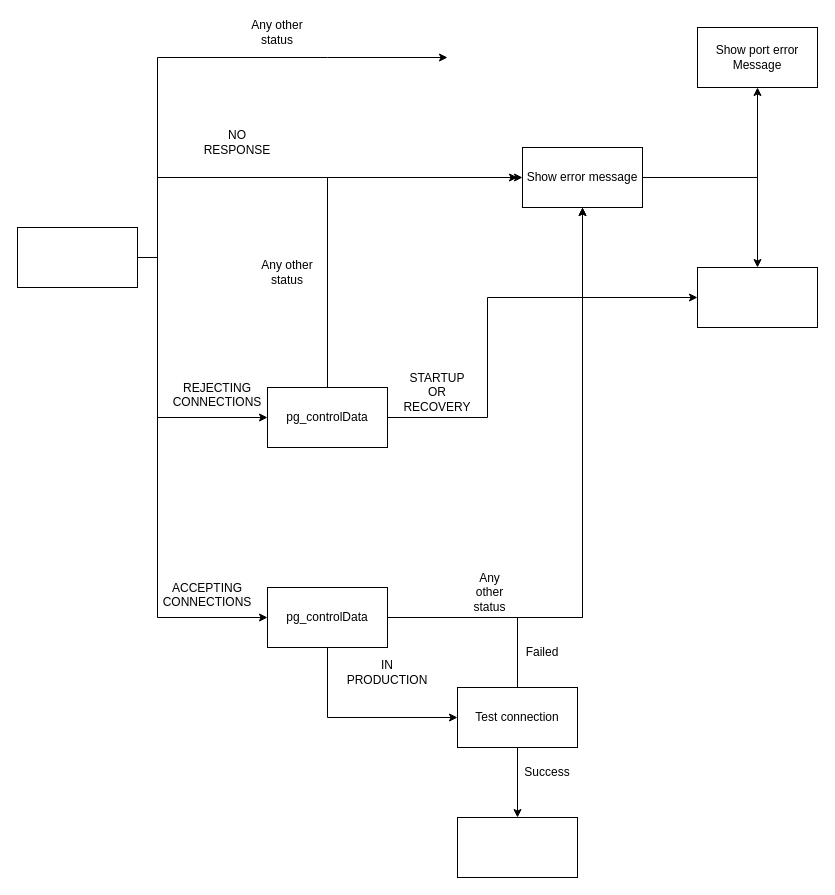
Image size: 835x895. Some labels were removed from this diagram. Each missing label, with the centre of its shape:
Continue: (517,847)
pg_isready: (77,257)
Show recovery error message: (757,297)
